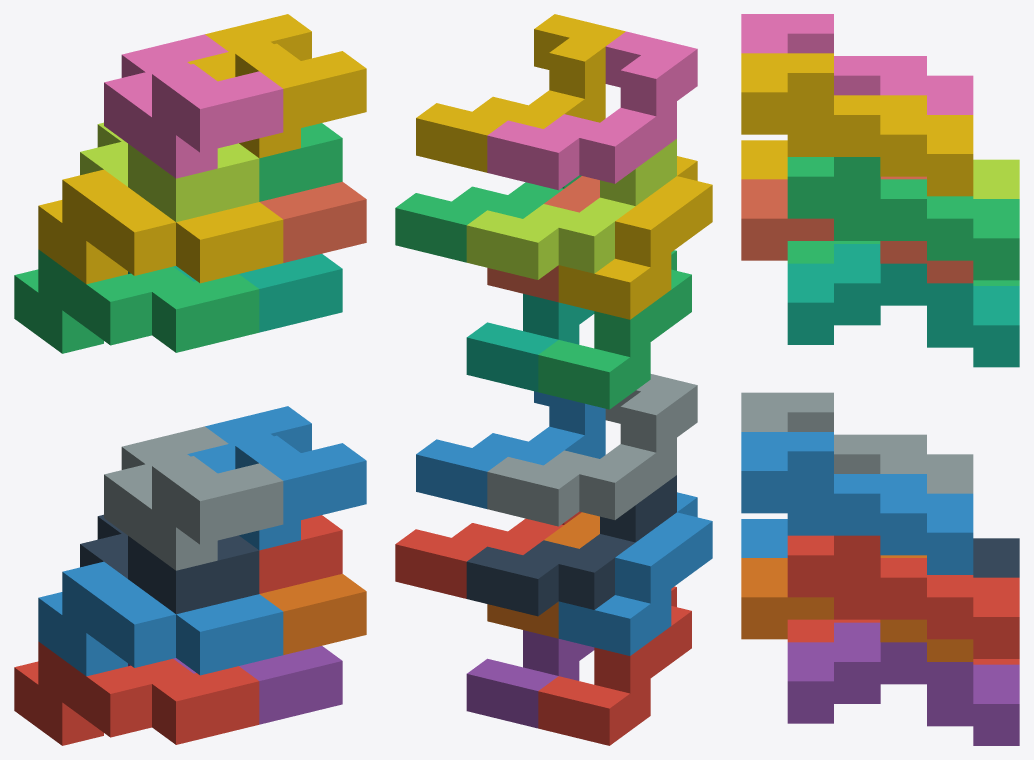
Rendered from tiling.obj.
3 views of the same model, side by side, from view 1: azimuth 30°, elevation 25°; view 2: azimuth 150°, elevation 25°; view 3: azimuth 270°, elevation 25° (orthographic). The views are drawn at different scales.
Visible parts, largest first — view 1: copy_1_domain_4, copy_1_domain_2, copy_1_domain_1, copy_1_domain_3, copy_2_domain_2, copy_2_domain_4, copy_2_domain_6, copy_2_domain_8, copy_2_domain_3, copy_2_domain_1, copy_1_domain_6, copy_1_domain_8 (+4 smaller); view 2: copy_2_domain_4, copy_2_domain_2, copy_2_domain_8, copy_2_domain_3, copy_2_domain_1, copy_1_domain_4, copy_1_domain_2, copy_1_domain_3, copy_1_domain_1, copy_2_domain_6, copy_1_domain_5, copy_1_domain_7 (+4 smaller); view 3: copy_2_domain_6, copy_2_domain_8, copy_2_domain_5, copy_2_domain_7, copy_1_domain_7, copy_1_domain_5, copy_2_domain_2, copy_2_domain_4, copy_1_domain_8, copy_1_domain_6, copy_1_domain_4, copy_2_domain_1 (+4 smaller).
Part boxes in pixels (x1,y1,x2,y2): copy_1_domain_4: (38, 169, 283, 284); copy_1_domain_2: (38, 561, 283, 676); copy_1_domain_1: (14, 641, 259, 745); copy_1_domain_3: (14, 249, 259, 353); copy_2_domain_2: (104, 426, 283, 570); copy_2_domain_4: (104, 34, 283, 178); copy_2_domain_6: (187, 406, 366, 550); copy_2_domain_8: (187, 14, 366, 158); copy_2_domain_3: (80, 122, 259, 222); copy_2_domain_1: (80, 514, 259, 614); copy_1_domain_6: (260, 574, 366, 654); copy_1_domain_8: (260, 181, 366, 262); copy_2_domain_4: (487, 31, 697, 190); copy_2_domain_2: (487, 374, 697, 526); copy_2_domain_8: (416, 14, 625, 172); copy_2_domain_3: (466, 139, 676, 279); copy_2_domain_1: (466, 475, 676, 616); copy_1_domain_4: (558, 156, 712, 319); copy_1_domain_2: (558, 492, 712, 655); copy_1_domain_3: (538, 250, 691, 409); copy_1_domain_1: (538, 586, 691, 745); copy_2_domain_6: (416, 391, 605, 508); copy_1_domain_5: (466, 630, 594, 728); copy_1_domain_7: (466, 293, 594, 391); copy_2_domain_6: (741, 432, 973, 574); copy_2_domain_8: (741, 53, 973, 196); copy_2_domain_5: (787, 535, 1019, 658); copy_2_domain_7: (787, 157, 1019, 280); copy_1_domain_7: (787, 244, 1019, 367); copy_1_domain_5: (787, 622, 1019, 745); copy_2_domain_2: (741, 392, 973, 493); copy_2_domain_4: (741, 14, 973, 114); copy_1_domain_8: (741, 176, 973, 283); copy_1_domain_6: (741, 555, 973, 661); copy_1_domain_4: (741, 140, 787, 179); copy_2_domain_1: (973, 538, 1019, 577).
Bounding box in the file's own units: 6 × 16 × 6.
